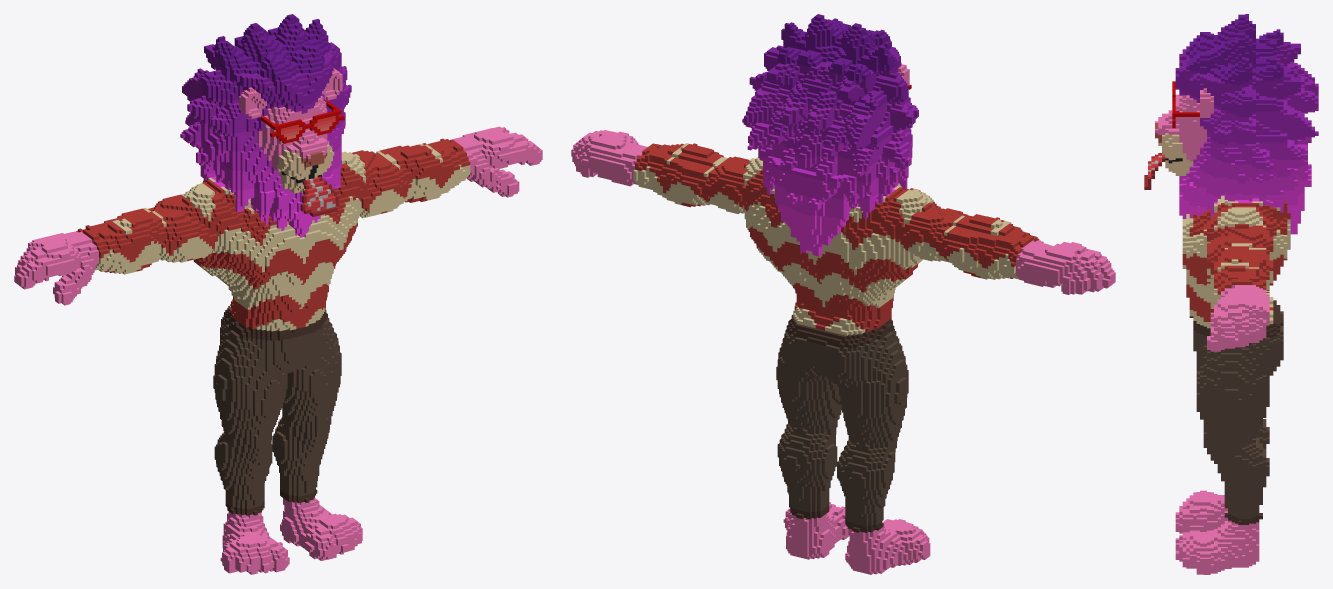
Rendered from 763-BcBhDwLy.fbx.
3 renders of one model, left to right at view 1: azimuth 30°, elevation 25°; view 2: azimuth 150°, elevation 25°; view 3: azimuth 270°, elevation 25°, orthographic. The views are drawn at different scales.
Visible parts, largest first — view 1: meat; view 2: meat; view 3: meat.
Part boxes in pixels (box(x1,y1,x2,y2)): meat: box(14, 14, 542, 574); meat: box(571, 14, 1115, 574); meat: box(1144, 14, 1318, 574).
Bounding box in the file's own units: 17.2 × 16.5 × 5.
5 materials, 5 textured.
